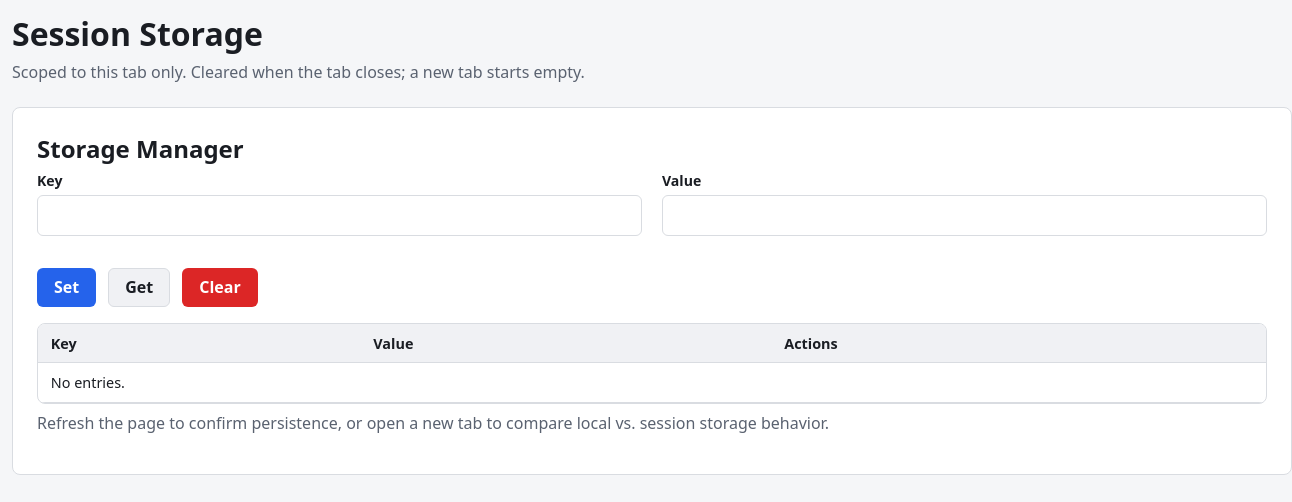
Session Storage module › writes to sessionStorage, not localStorage
Type "temp" into the field with test id "session-storage-key" at (340, 216), box [37,195,642,236]
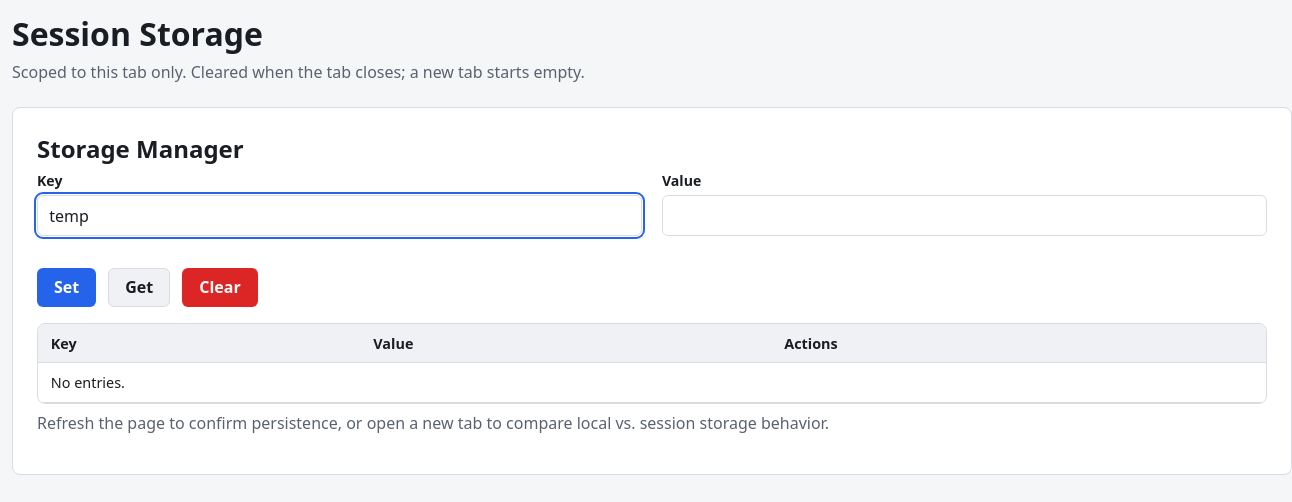
Type "value" into the field with test id "session-storage-value" at (964, 216), box [662,195,1267,236]
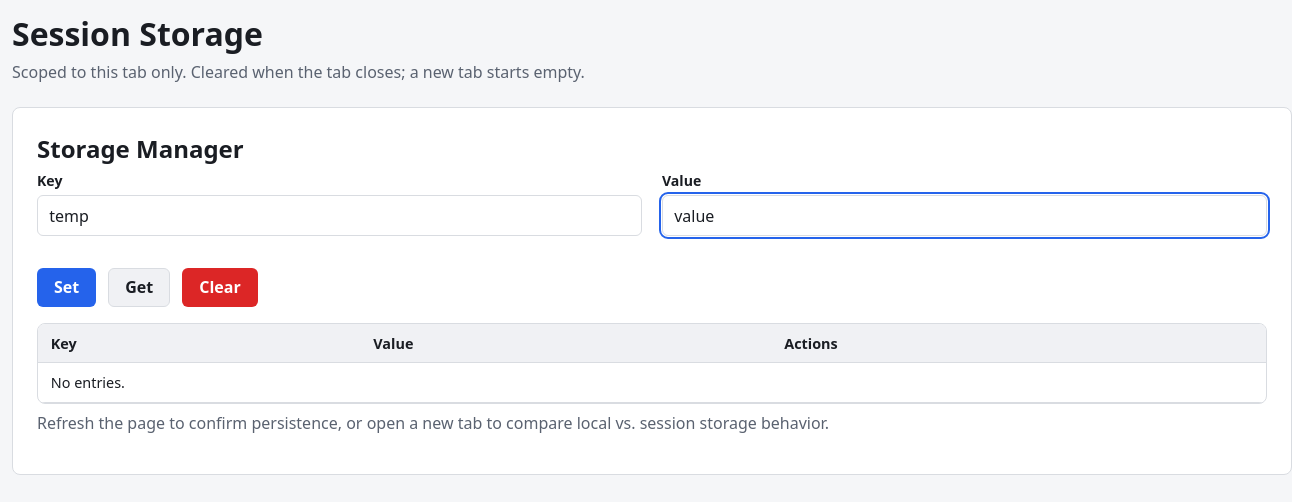
Click the button with test id "session-storage-set" at (67, 288), box [37,268,96,307]
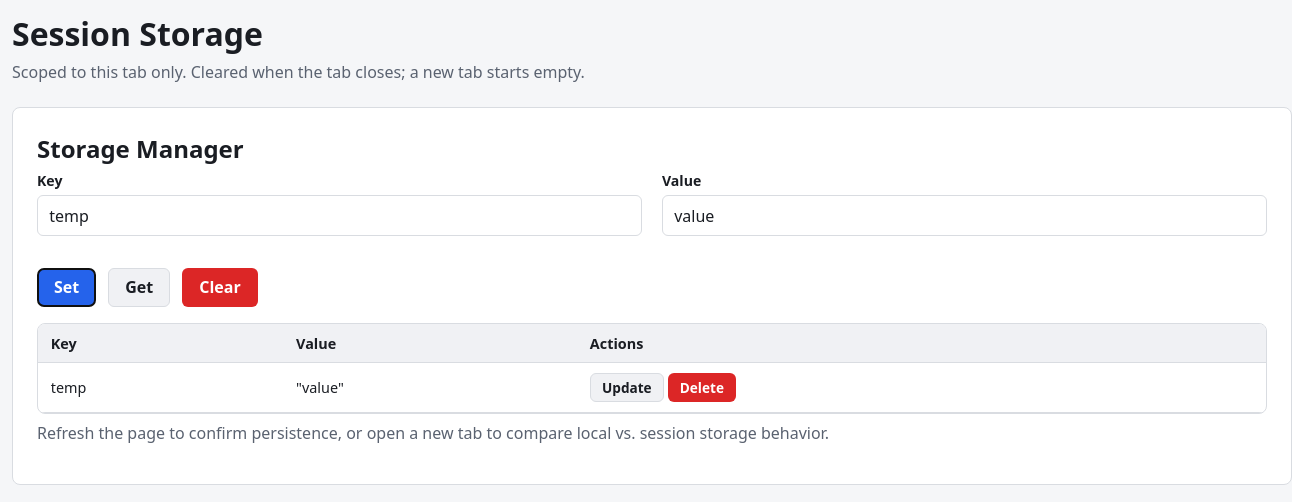
Expected: the row with test id "session-storage-row-temp" is shown, [38,363,1266,412]
